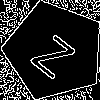Z: (29, 25, 83, 80)
